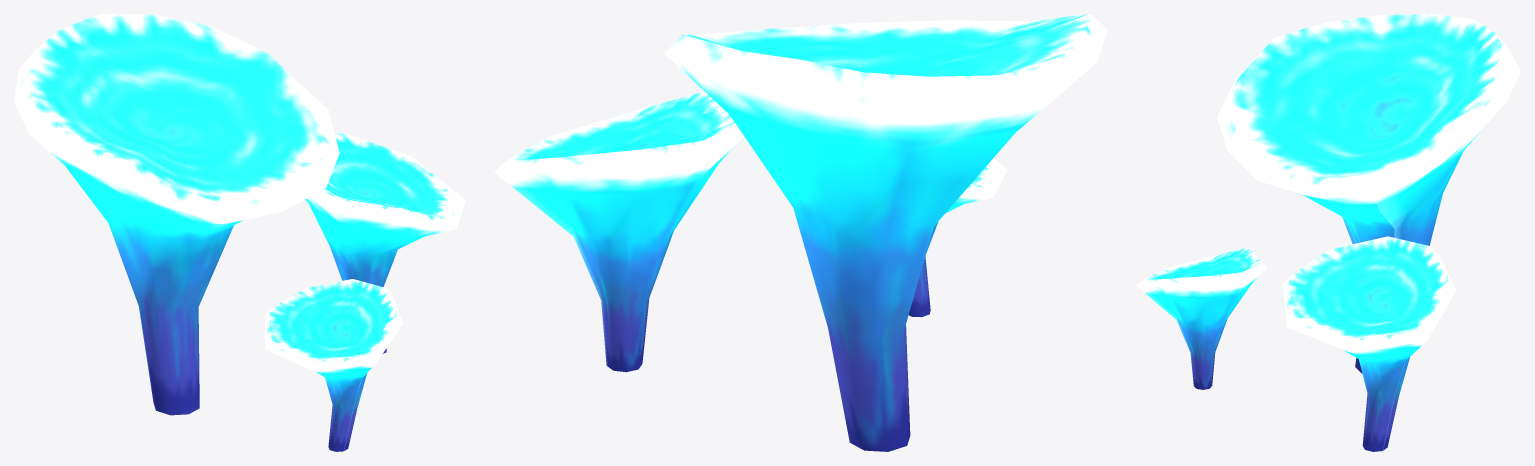
Rendered from SM_ENV_mushrooms_ancient_01_01.fbx.
3 views of the same model, side by side, from view 1: azimuth 30°, elevation 25°; view 2: azimuth 150°, elevation 25°; view 3: azimuth 270°, elevation 25° (orthographic). The views are drawn at different scales.
Parts seen in each view (by area): view 1: SM_ENV_mushrooms_ancient_01_01_LOD0; view 2: SM_ENV_mushrooms_ancient_01_01_LOD0; view 3: SM_ENV_mushrooms_ancient_01_01_LOD0.
Boxes of the visible parts, x1=… form: SM_ENV_mushrooms_ancient_01_01_LOD0: x1=14, y1=14, x2=465, y2=451; SM_ENV_mushrooms_ancient_01_01_LOD0: x1=494, y1=14, x2=1107, y2=451; SM_ENV_mushrooms_ancient_01_01_LOD0: x1=1136, y1=14, x2=1520, y2=451.
Bounding box in the file's own units: 37.05 × 28.95 × 32.29.
